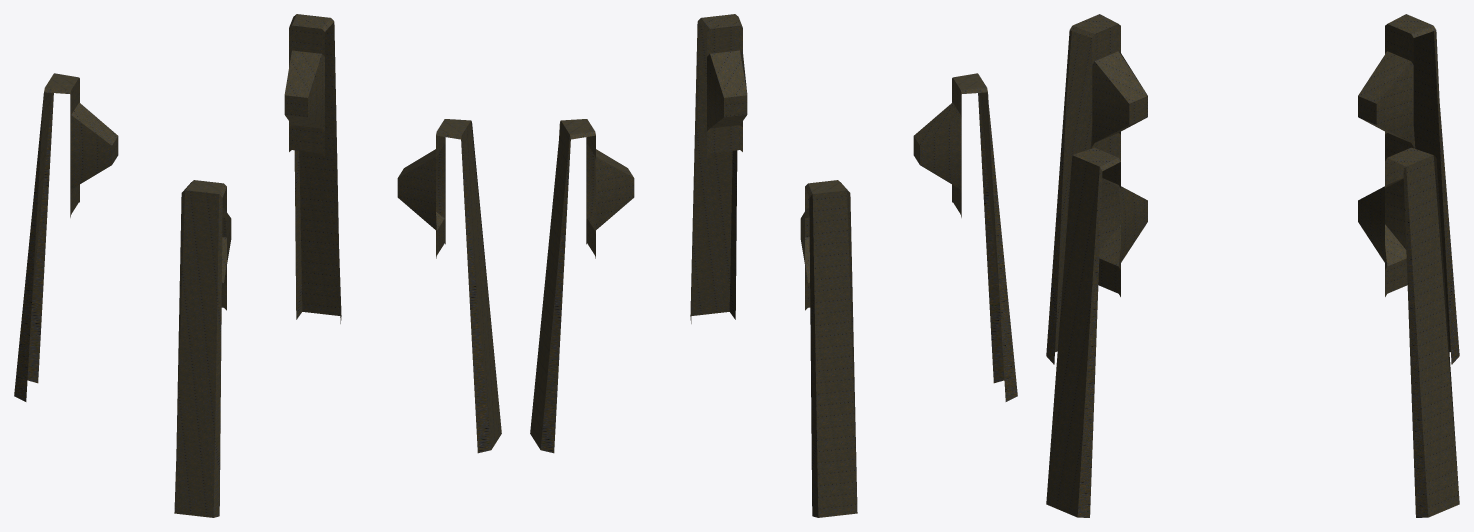
Rendered from Dragonfly_BarrelBattle_Metal_Upper.fbx.
The picture shows the model from 3 angles, left to right: view 1: azimuth 30°, elevation 25°; view 2: azimuth 150°, elevation 25°; view 3: azimuth 270°, elevation 25°; orthographic projection. The views are drawn at different scales.
Visible parts, largest first — view 1: Uppermetal; view 2: Uppermetal; view 3: Uppermetal.
Boxes of the visible parts, bbox=[...] form: Uppermetal: bbox=[14, 14, 501, 517]; Uppermetal: bbox=[530, 14, 1017, 517]; Uppermetal: bbox=[1046, 14, 1459, 517].
Size of the model in its own units: 55.07 by 50.51 by 55.07.
